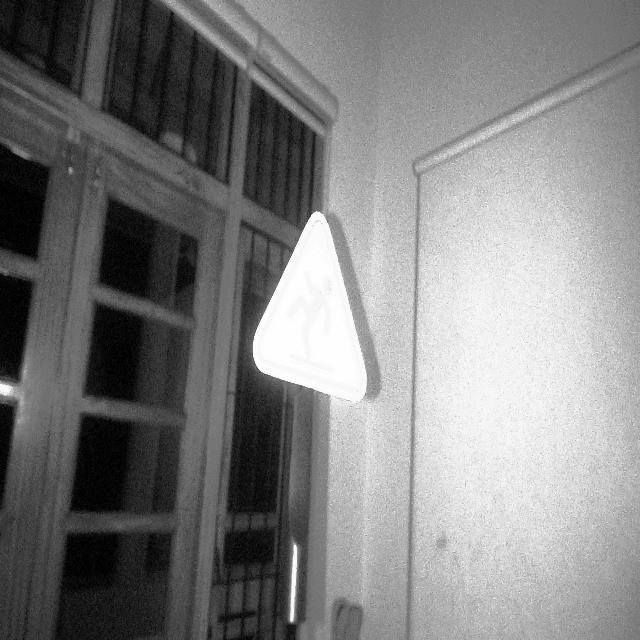Sign: (251, 209, 369, 403)
